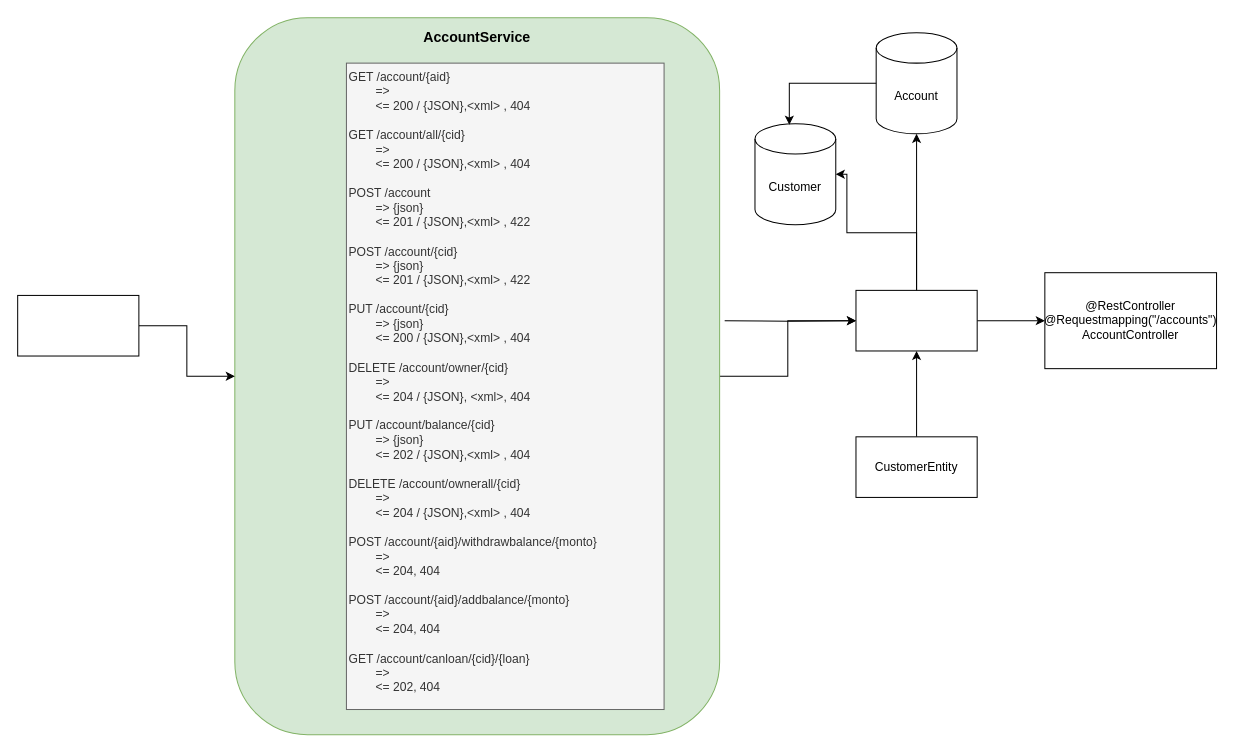
Image size: 1234x752. Some labels were removed from this diagram. The shapes that lost their labels are listed below. From the top down, each one's centre as x and y in pixels, then its label:
the point at 78,325: BEST APP CAIXA
the point at 916,320: AccountEntity
